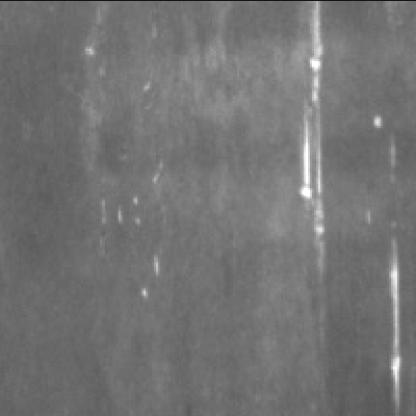scratches: (291, 0, 330, 245), (374, 233, 406, 410)
